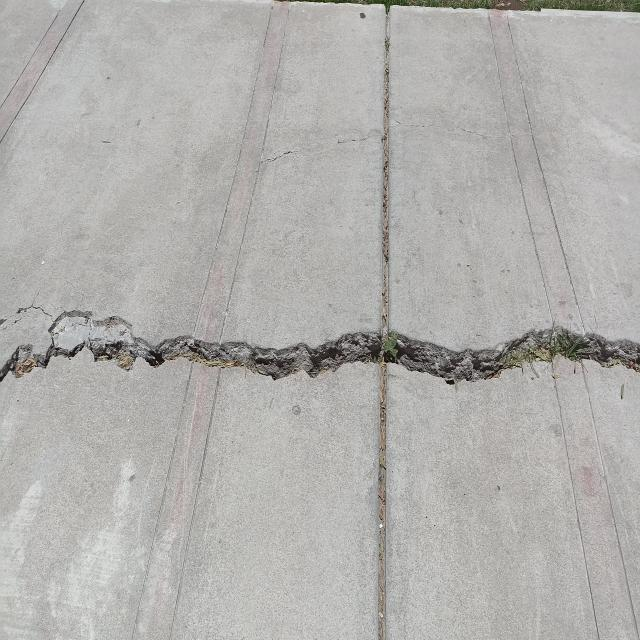hole: (0, 320, 640, 382)
